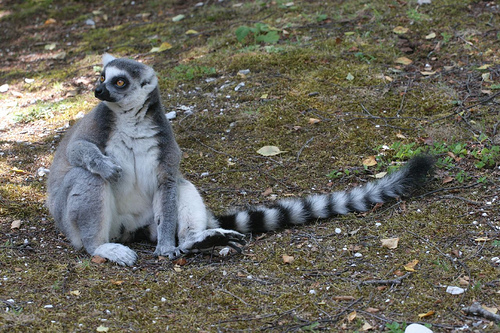cat: (48, 47, 426, 268)
